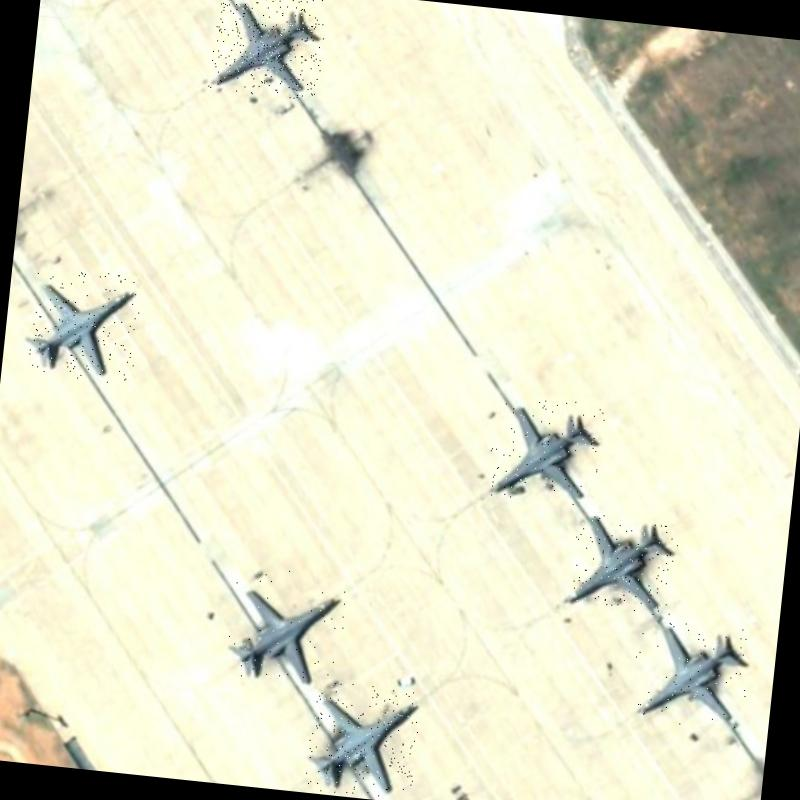A10: (217, 563, 349, 697), (627, 617, 755, 731), (482, 392, 606, 509), (304, 679, 423, 800), (26, 266, 142, 384), (565, 512, 680, 617), (207, 0, 327, 100)
